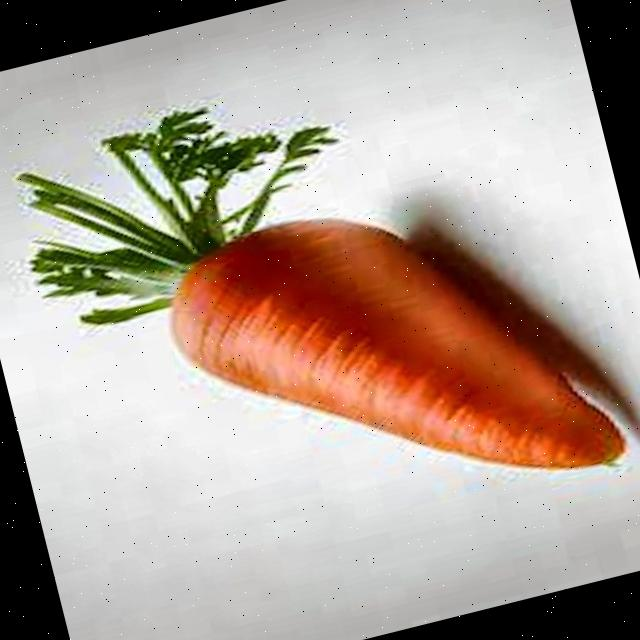carrot: (15, 108, 624, 469)
